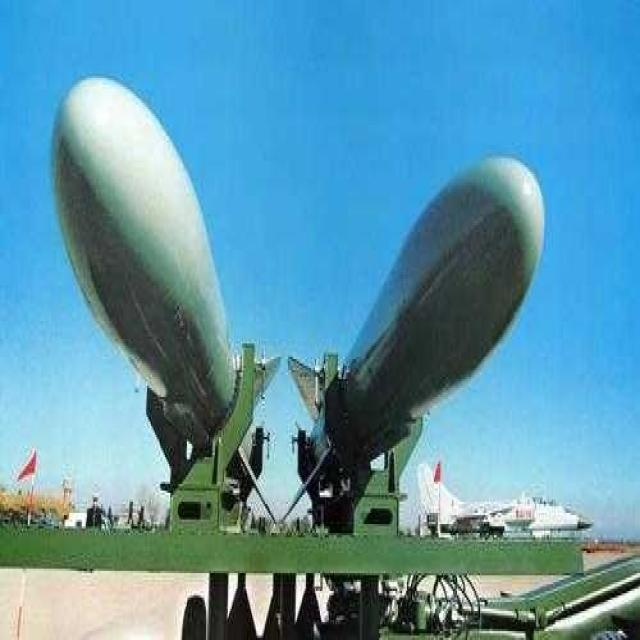missile: (48, 69, 280, 522), (286, 148, 552, 516)
